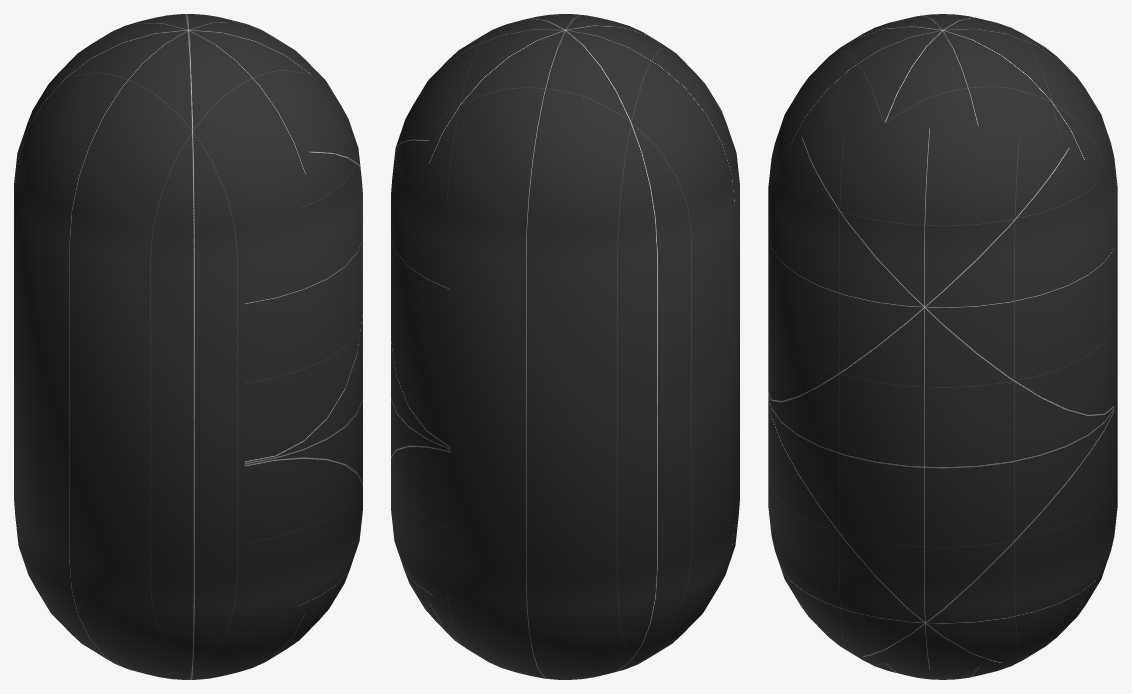
The picture shows the model from 3 angles, left to right: view 1: azimuth 30°, elevation 25°; view 2: azimuth 150°, elevation 25°; view 3: azimuth 270°, elevation 25°; orthographic projection.
Parts seen in each view (by area): view 1: Capsule; view 2: Capsule; view 3: Capsule.
Part boxes in pixels (x1,y1,x2,y2): Capsule: (14, 14, 362, 679); Capsule: (391, 14, 739, 679); Capsule: (768, 14, 1117, 679).
Size of the model in its own units: 0.5 by 1 by 0.5.
Materials: 1 (1 with a texture image).
